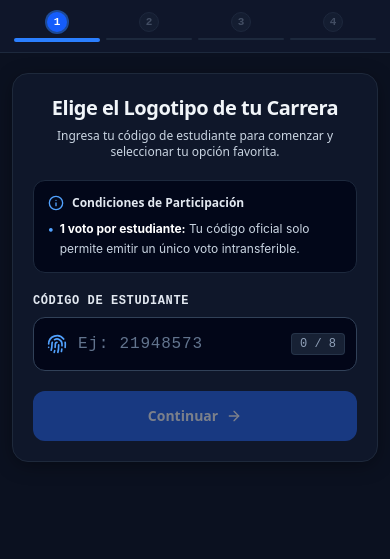
Identification Step — Validation & Barriers › blocks continuation and displays error when student identifier has already voted
Expected: the navigation bar with test id "stepper-nav" is shown, [14,10,376,42]
In the field with test id "student-code-input": (195, 344) [33,317,357,371], type "20261111"
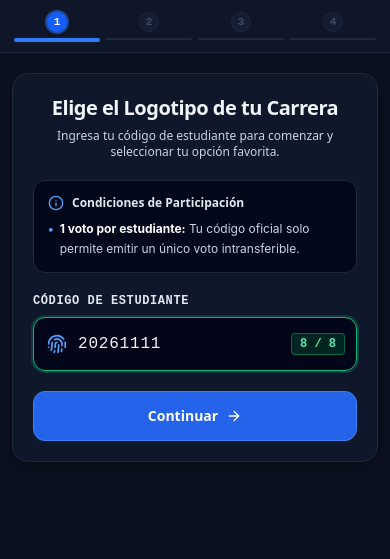
Click the button with test id "step1-continue-btn": (195, 416) [33,391,357,441]
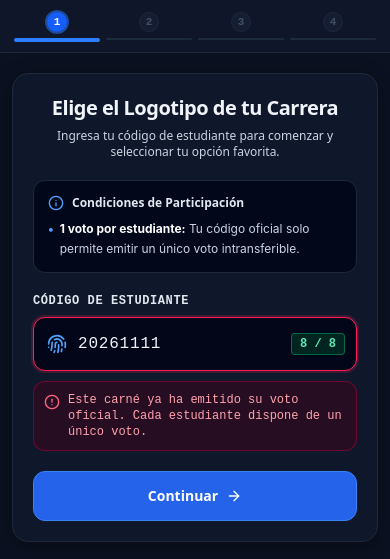
Expected: the button with test id "step1-continue-btn" is shown, [33,471,357,521]
Result: the element with test id "student-code-error" shows "Este carné ya ha emitido su voto oficial" at [33,381,357,451]
